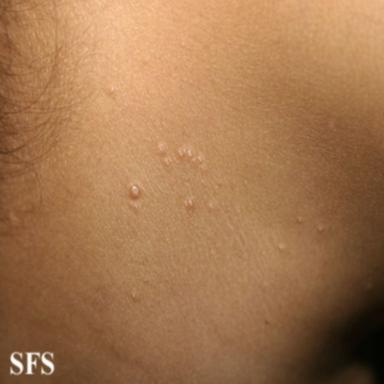Molluscum-Contagiosum: (129, 185, 140, 199), (163, 156, 172, 166), (185, 198, 193, 207), (109, 85, 115, 93), (318, 225, 324, 232), (187, 149, 192, 157), (297, 216, 302, 223), (178, 150, 183, 157), (278, 244, 283, 250), (132, 292, 136, 299), (198, 155, 202, 162), (183, 148, 186, 154)
